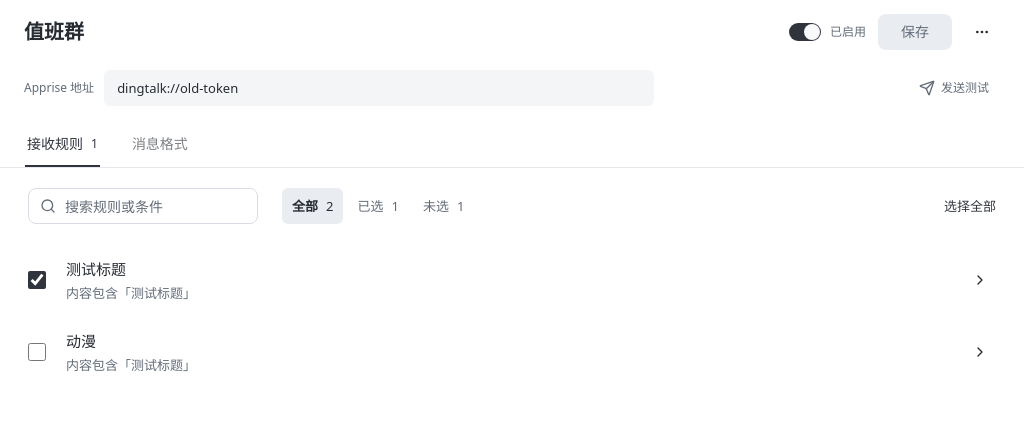
Test: TargetEditor › enables save only after editing an existing channel and disables it again after saving
The image size is (1024, 437).
Expected: the button "保存" is disabled, [878,14,952,50]
Click the switch: coordinates (805, 32) [789,23,821,41]
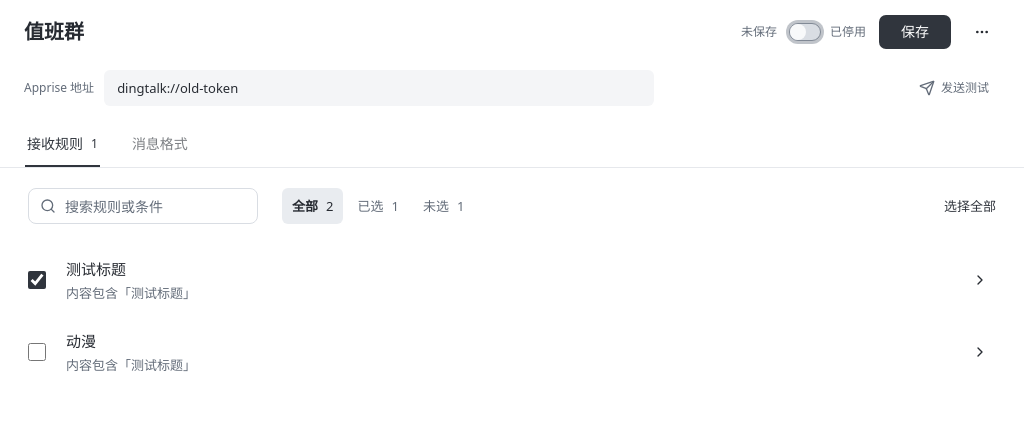
Now the button "保存" is enabled
Click the button "保存": coordinates (915, 32) [878,14,952,50]
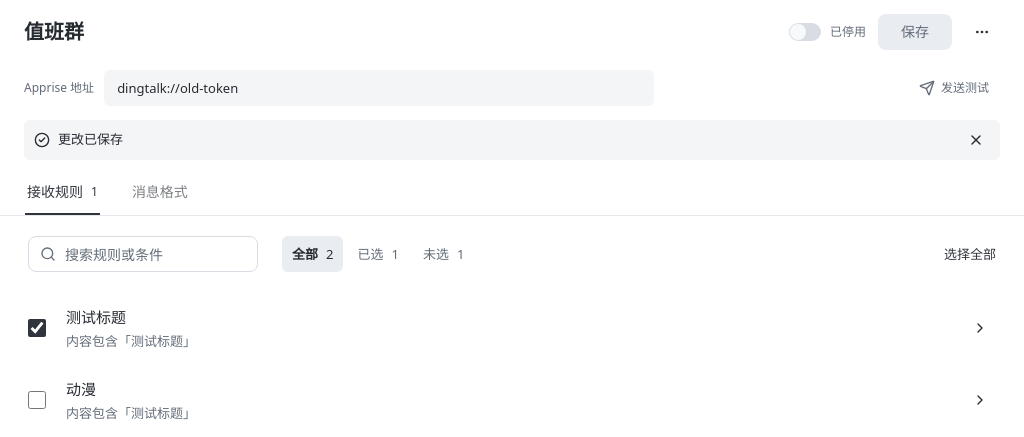
Now the button "保存" is disabled, box [878,14,952,50]
Now the text "未保存" is gone
